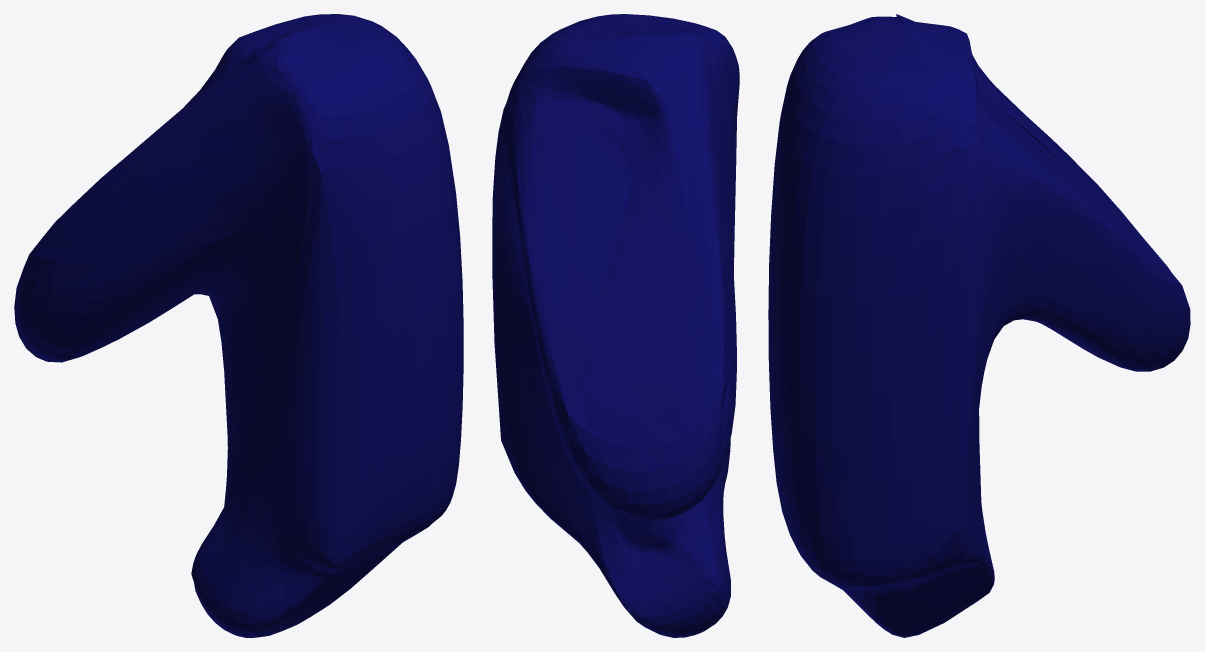
3 views of the same model, side by side, from view 1: azimuth 30°, elevation 25°; view 2: azimuth 150°, elevation 25°; view 3: azimuth 270°, elevation 25° (orthographic). The views are drawn at different scales.
Visible parts, largest first — view 1: 162_Cube.676; view 2: 162_Cube.676; view 3: 162_Cube.676.
Part boxes in pixels (<box>): 162_Cube.676: <box>14,14,463,637</box>; 162_Cube.676: <box>492,14,739,637</box>; 162_Cube.676: <box>768,14,1190,637</box>.
Size of the model in its own units: 8.14 by 14.79 by 9.19.
